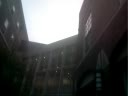window: (107, 46, 119, 68), (74, 55, 81, 76), (54, 58, 60, 78)
